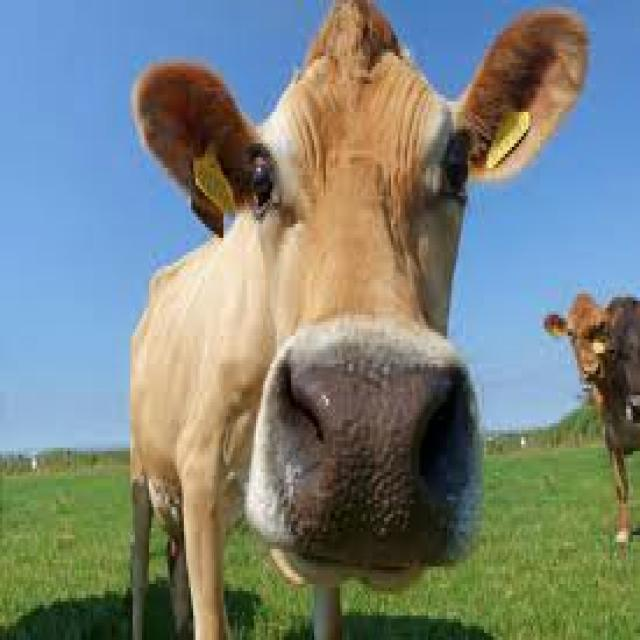cow: (130, 0, 586, 637)
